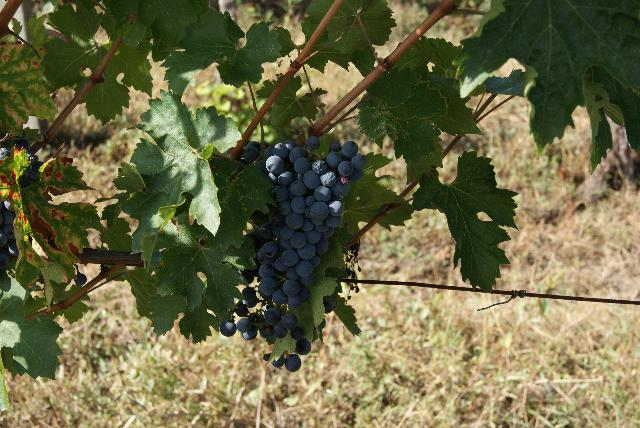grapes: (255, 136, 368, 370)
